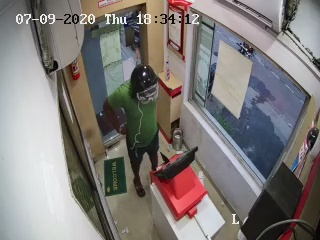helmet: (122, 63, 165, 107)
